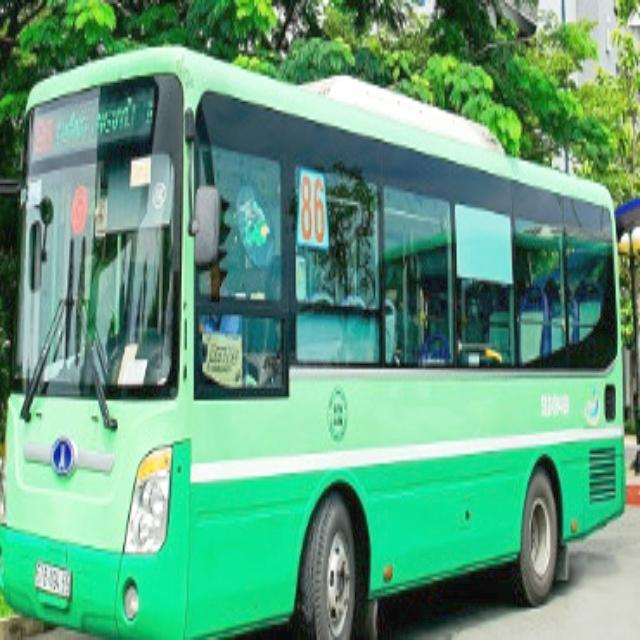Car: (0, 43, 632, 639)
